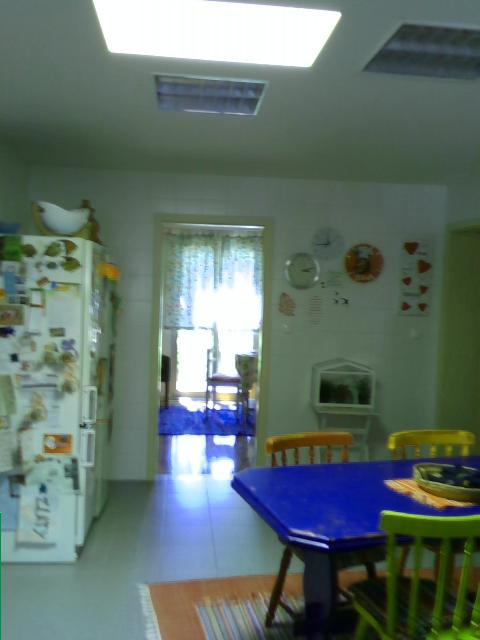open_door: (143, 208, 277, 485)
